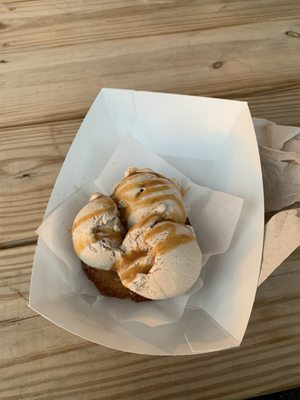soup: (70, 167, 204, 302)
